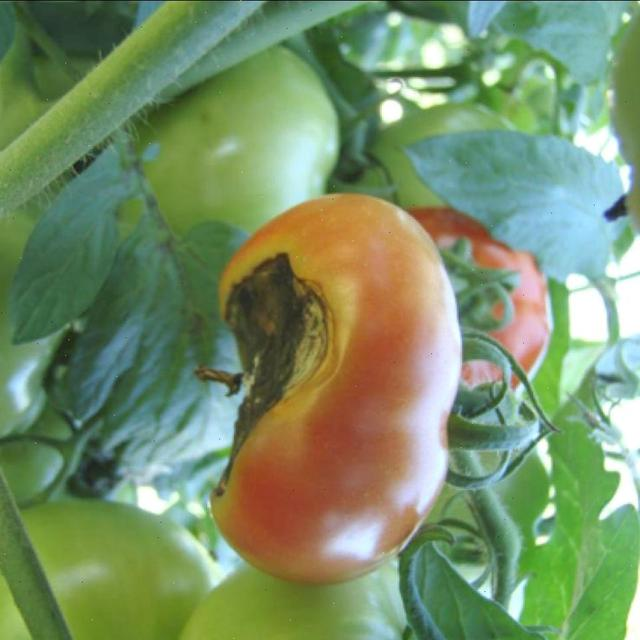Healthy Fruit: (274, 144, 368, 284)
